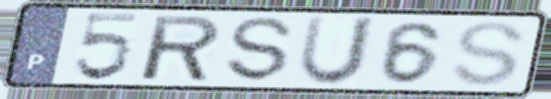5: (71, 10, 142, 83)
6: (380, 19, 449, 86)
R: (140, 13, 224, 84)
S: (447, 19, 529, 89), (224, 15, 297, 85)
U: (293, 13, 381, 89)
